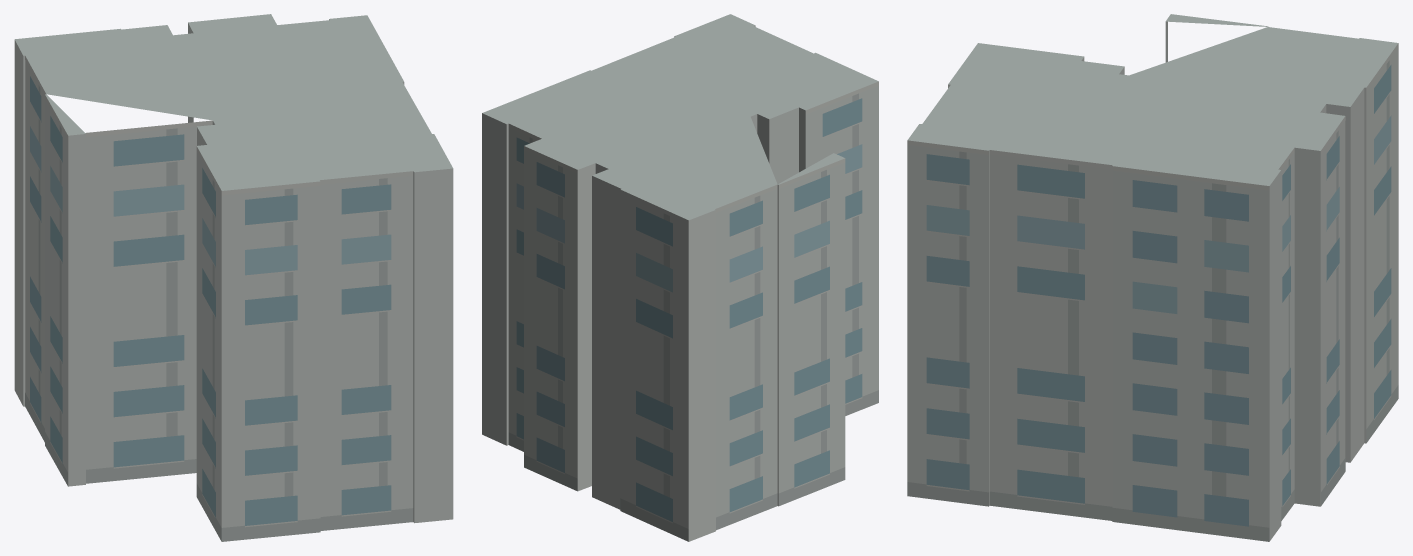
File: survey-upis-32947113.glb
3 renders of one model, left to right at view 1: azimuth 30°, elevation 25°; view 2: azimuth 150°, elevation 25°; view 3: azimuth 270°, elevation 25°, orthographic. The views are drawn at different scales.
Parts seen in each view (by area): view 1: survey-upis-32947113.tmp; view 2: survey-upis-32947113.tmp; view 3: survey-upis-32947113.tmp.
Boxes of the visible parts, x1,y1,x2,y2 form: survey-upis-32947113.tmp: (14,14,453,541); survey-upis-32947113.tmp: (482,14,878,541); survey-upis-32947113.tmp: (907,14,1398,541).
Bounding box in the file's own units: 19.83 × 19.1 × 23.9.
